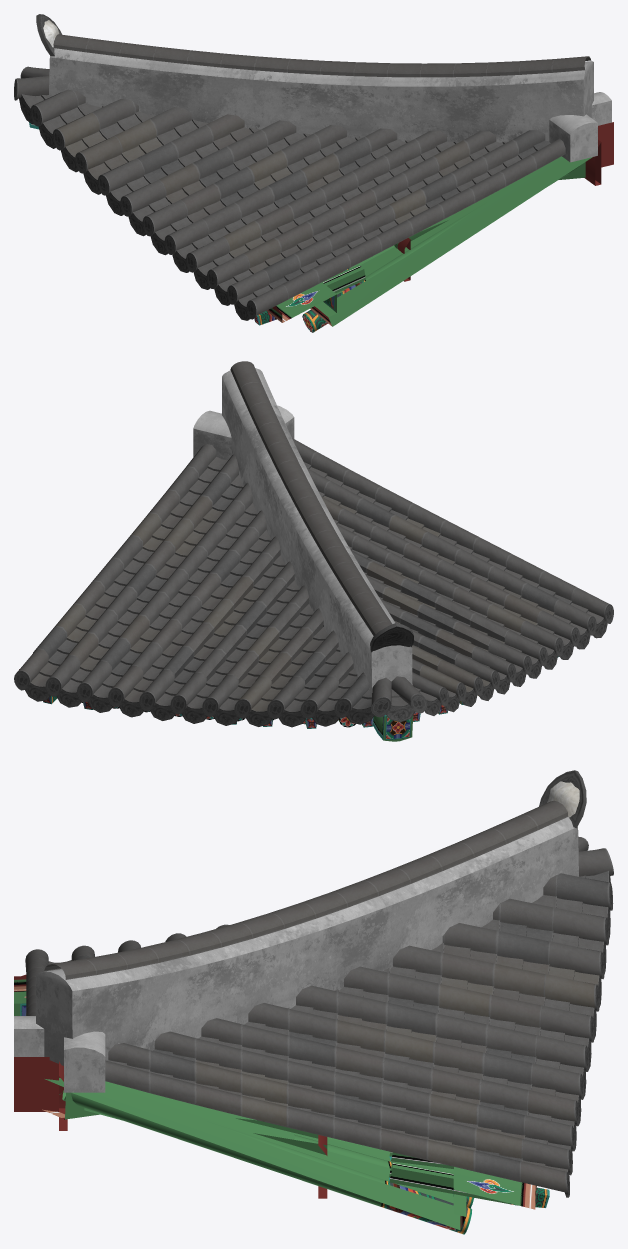
File: SM_Castle_Roof02b.fbx
3 views of the same model, one above another, from view 1: azimuth 30°, elevation 25°; view 2: azimuth 150°, elevation 25°; view 3: azimuth 270°, elevation 25° (orthographic). The views are drawn at different scales.
Visible parts, largest first — view 1: SM_Castle_Roof02b; view 2: SM_Castle_Roof02b; view 3: SM_Castle_Roof02b.
Boxes of the visible parts, left/top/right/bottom form: SM_Castle_Roof02b: left=14, top=14, right=613, bottom=332; SM_Castle_Roof02b: left=14, top=361, right=613, bottom=741; SM_Castle_Roof02b: left=14, top=770, right=613, bottom=1234.
Size of the model in its own units: 393 by 394 by 197.
2 materials, 2 textured.
